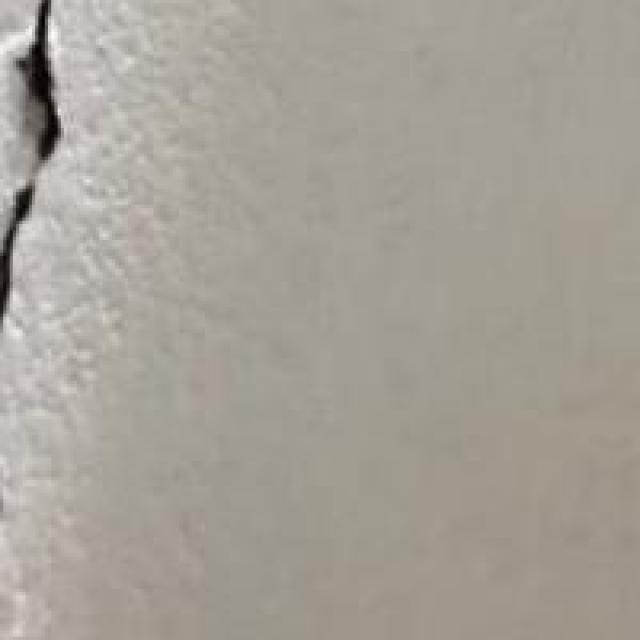Crack: (0, 0, 154, 355)
